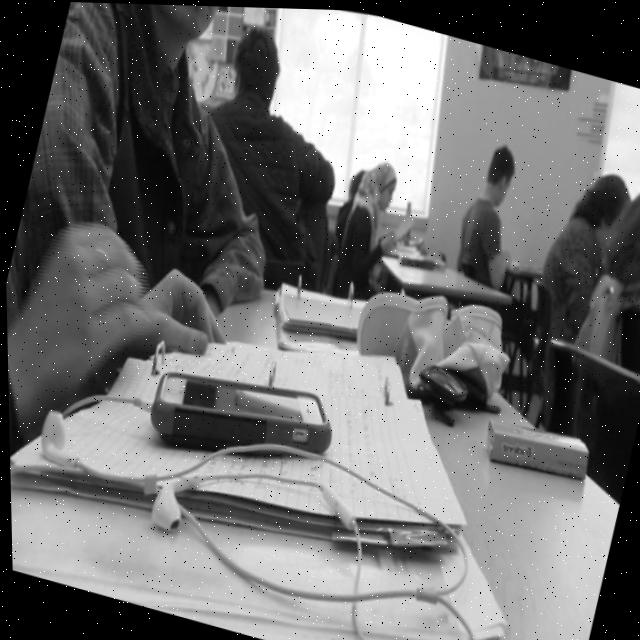phone: (135, 342, 345, 488)
